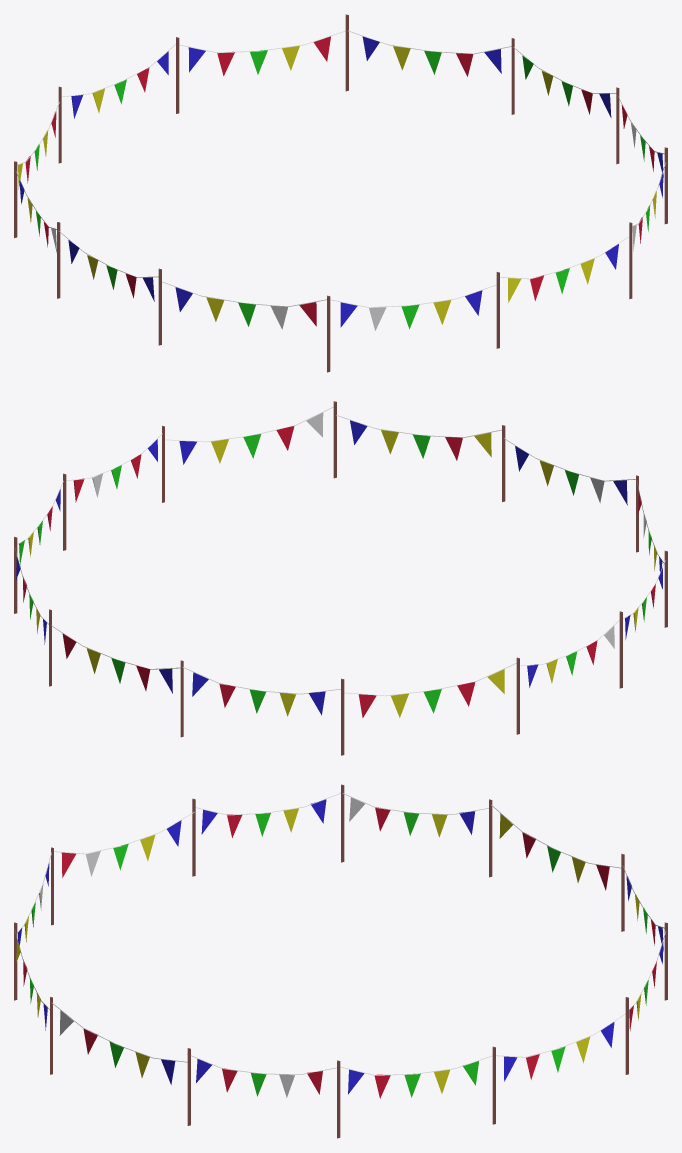
Rendered from battleField.fbx.
3 views of the same model, one above another, from view 1: azimuth 30°, elevation 25°; view 2: azimuth 150°, elevation 25°; view 3: azimuth 270°, elevation 25° (orthographic).
Bounding box in the file's own units: 1006 × 130 × 1002.
